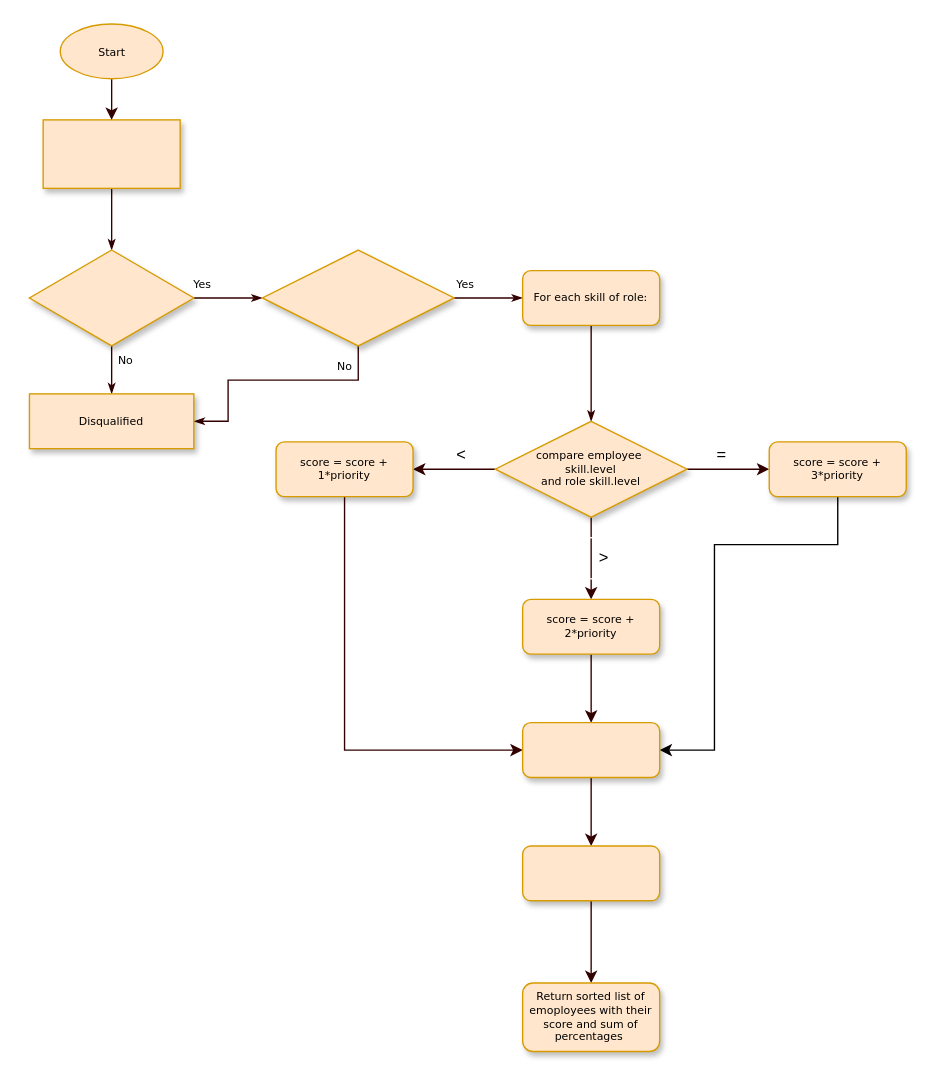
Some shapes in this 938 by 1085 pixel diagram are drawn without their labels. Each missing label, with the centre of its shape:
employee has all languages with level >= role level: the point at 359,299
Initialize dictionary of employees, score=0 and utilization: the point at 112,155
Sort all employees by sum of percentage: the point at 592,874
Sum percentage of all roles of the employee: the point at 592,751
Year of experience of employee >= role: the point at 112,299
